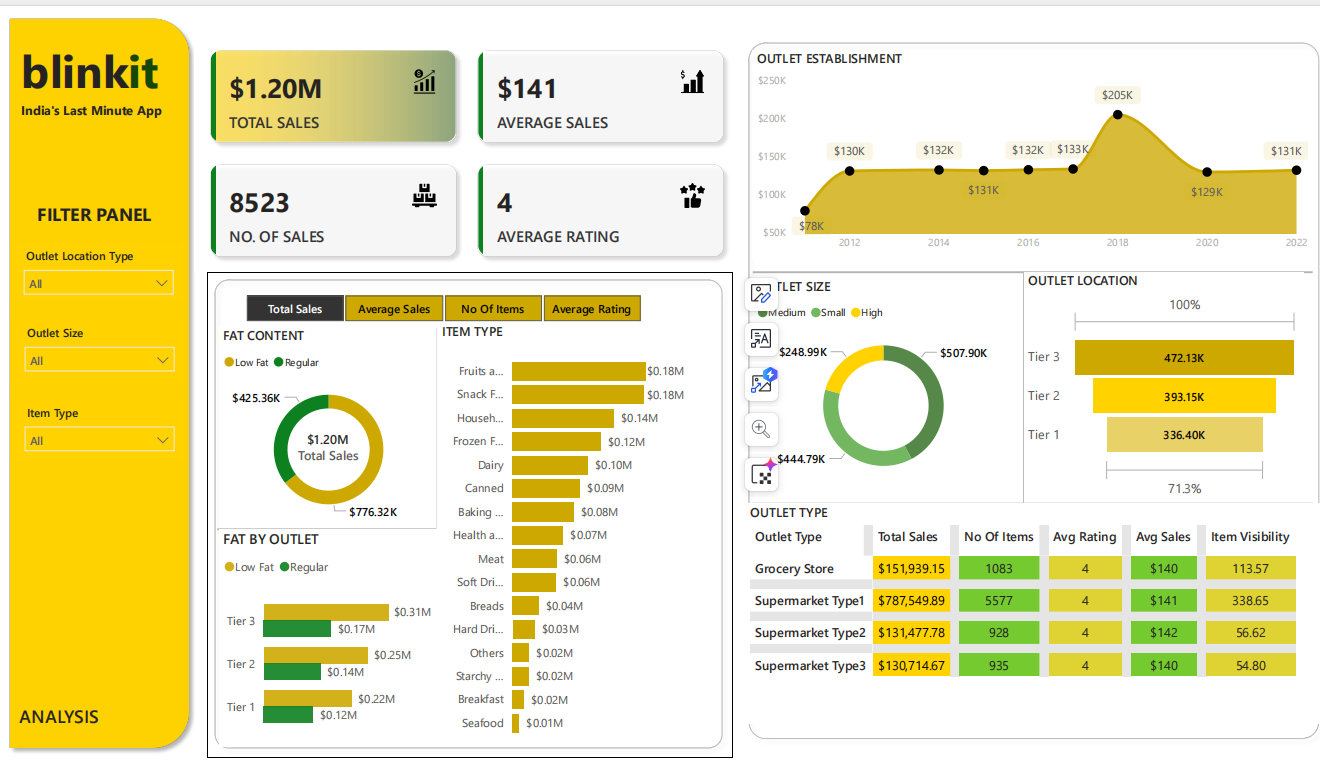

What the dashboard file says about the page in this screenshot:
{"tool":"powerbi","page":{"name":"Page 1","canvas":[1400,800],"ordinal":0},"visuals":[{"type":"shape","box":[2.9,0,205.8,785.5],"z":0},{"type":"textbox","box":[18.7,24.5,167,80.6],"z":1000},{"type":"textbox","box":[18.7,90.7,159.8,30.2],"z":2000},{"type":"cardVisual","fields":{"Data":["BlinkIT Grocery Data.Total Sales","BlinkIT Grocery Data.Average Sales","BlinkIT Grocery Data.No Of Items","BlinkIT Grocery Data.Average Rating"]},"box":[205.8,24.6,575.4,250.7],"z":3000},{"type":"shape","box":[218.8,275.4,552.2,510.1],"z":4000},{"type":"donutChart","title":"FAT CONTENT","fields":{"Y":["BlinkIT Grocery Data.Total Sales"],"Category":["BlinkIT Grocery Data.Item Fat Content"]},"box":[231.8,332.6,230.4,213.1],"z":5000},{"type":"shape","box":[230.4,468.1,230.4,156.5],"z":6000},{"type":"shape","box":[371.5,332.6,180,442.1],"z":7000},{"type":"slicer","fields":{"Values":["Matrics 2.Matrics"]},"box":[234.8,292.8,465.2,40.6],"z":8000},{"type":"cardVisual","fields":{"Data":["BlinkIT Grocery Data.Total Sales"]},"box":[287,418.8,120.3,79.7],"z":9000},{"type":"clusteredBarChart","title":"FAT BY OUTLET","fields":{"Y":["BlinkIT Grocery Data.Total Sales"],"Category":["BlinkIT Grocery Data.Outlet Location Type"],"Series":["BlinkIT Grocery Data.Item Fat Content"]},"box":[231.9,546.4,229,229],"z":10000},{"type":"barChart","title":"ITEM TYPE","fields":{"Y":["BlinkIT Grocery Data.Total Sales"],"Category":["BlinkIT Grocery Data.Item Type"]},"box":[462.3,329,265.2,446.4],"z":11000},{"type":"shape","box":[781.2,24.6,618.8,750.7],"z":12000},{"type":"lineChart","title":"OUTLET ESTABLISHMENT","fields":{"Category":["BlinkIT Grocery Data.Outlet Establishment Year"],"Y":["BlinkIT Grocery Data.Total Sales"]},"box":[794.2,40.6,589.9,220.3],"z":13000},{"type":"donutChart","title":"OUTLET SIZE","fields":{"Y":["BlinkIT Grocery Data.Total Sales"],"Category":["BlinkIT Grocery Data.Outlet Size"]},"box":[794.2,281.2,275.4,224.6],"z":14000},{"type":"shape","box":[794.2,244.9,589.9,60.9],"z":15000},{"type":"shape","box":[989.9,275.4,179.7,243.5],"z":16000},{"type":"funnel","title":"OUTLET LOCATION","fields":{"Category":["BlinkIT Grocery Data.Outlet Location Type"],"Y":["Sum(BlinkIT Grocery Data.Sales)"]},"box":[1079.7,275.4,294.2,243.5],"z":17000},{"type":"shape","box":[794.2,440.6,589.9,156.5],"z":18000},{"type":"pivotTable","title":"OUTLET TYPE","fields":{"Values":["BlinkIT Grocery Data.Total Sales","BlinkIT Grocery Data.No Of Items","BlinkIT Grocery Data.Average Rating","BlinkIT Grocery Data.Average Sales","Sum(BlinkIT Grocery Data.Item Visibility)"],"Rows":["BlinkIT Grocery Data.Outlet Type"]},"box":[787,518.8,605.8,231.9],"z":19000},{"type":"slicer","fields":{"Values":["BlinkIT Grocery Data.Outlet Location Type"]},"box":[15.9,244.9,178.3,59.4],"z":20000},{"type":"slicer","fields":{"Values":["BlinkIT Grocery Data.Outlet Size"]},"box":[17.4,326.1,178.3,66.7],"z":21000},{"type":"slicer","fields":{"Values":["BlinkIT Grocery Data.Item Type"]},"box":[17.4,410.1,178.3,60.9],"z":22000},{"type":"textbox","box":[36.2,195.7,142,36.2],"z":23000},{"type":"textbox","box":[17.4,724.6,114.5,36.2],"z":24000}]}

Visuals, with their boxes in screenshot pixels (x1, y1, x2, y2), scaled from the page's 1400x800 canvas onto the 1320x773 screenshot:
shape: 3 0 197 759
textbox: 18 24 175 102
textbox: 18 88 168 117
cardVisual - BlinkIT Grocery Data.Total Sales x BlinkIT Grocery Data.Average Sales: 194 24 737 266
shape: 206 266 727 759
"FAT CONTENT" donutChart: 219 321 436 527
shape: 217 452 434 604
shape: 350 321 520 749
slicer - Matrics 2.Matrics: 221 283 660 322
cardVisual - BlinkIT Grocery Data.Total Sales: 271 405 384 482
"FAT BY OUTLET" clusteredBarChart: 219 528 435 749
"ITEM TYPE" barChart: 436 318 686 749
shape: 737 24 1319 749
"OUTLET ESTABLISHMENT" lineChart: 749 39 1305 252
"OUTLET SIZE" donutChart: 749 272 1008 489
shape: 749 237 1305 295
shape: 933 266 1103 501
"OUTLET LOCATION" funnel: 1018 266 1295 501
shape: 749 426 1305 577
"OUTLET TYPE" pivotTable: 742 501 1313 725
slicer - BlinkIT Grocery Data.Outlet Location Type: 15 237 183 294
slicer - BlinkIT Grocery Data.Outlet Size: 16 315 185 380
slicer - BlinkIT Grocery Data.Item Type: 16 396 185 455
textbox: 34 189 168 224
textbox: 16 700 124 735
